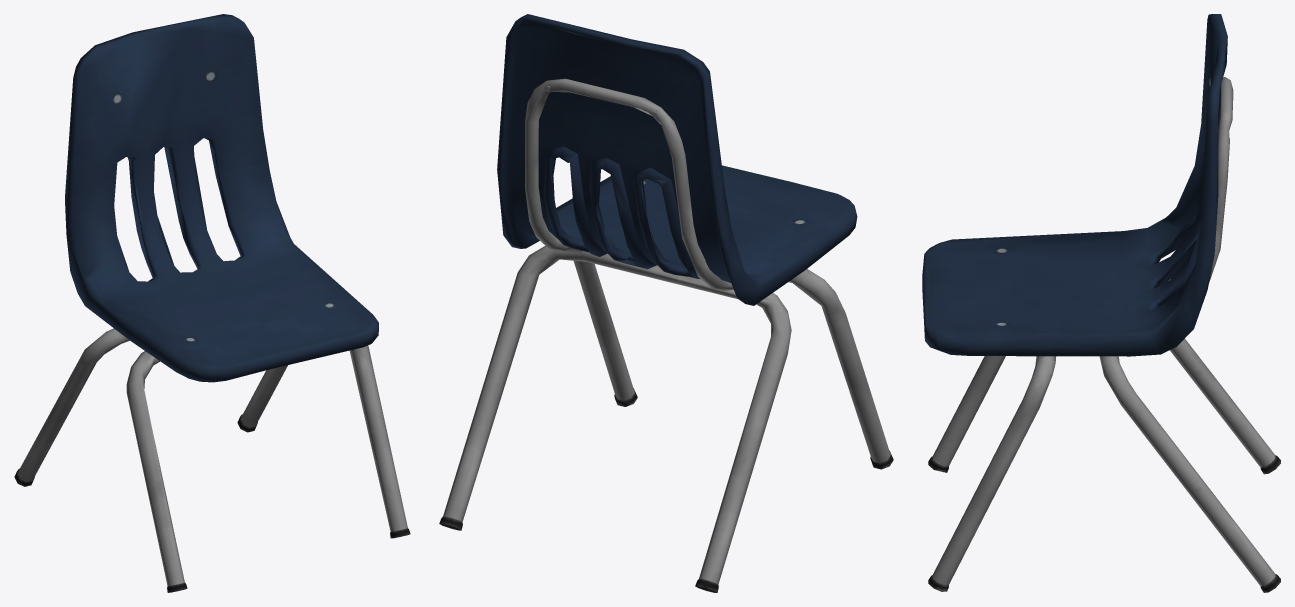
File: SchoolChair_01.glb
3 renders of one model, left to right at view 1: azimuth 30°, elevation 25°; view 2: azimuth 150°, elevation 25°; view 3: azimuth 270°, elevation 25°, orthographic. The views are drawn at different scales.
Parts seen in each view (by area): view 1: SchoolChair_01; view 2: SchoolChair_01; view 3: SchoolChair_01.
Boxes of the visible parts, x1,y1,x2,y2 form: SchoolChair_01: [14, 14, 410, 592]; SchoolChair_01: [439, 14, 893, 592]; SchoolChair_01: [922, 14, 1280, 592].
Size of the model in its own units: 0.5659 by 1 by 0.6733.
1 material, 1 textured.
